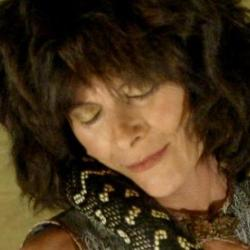face: (2, 1, 242, 207)
